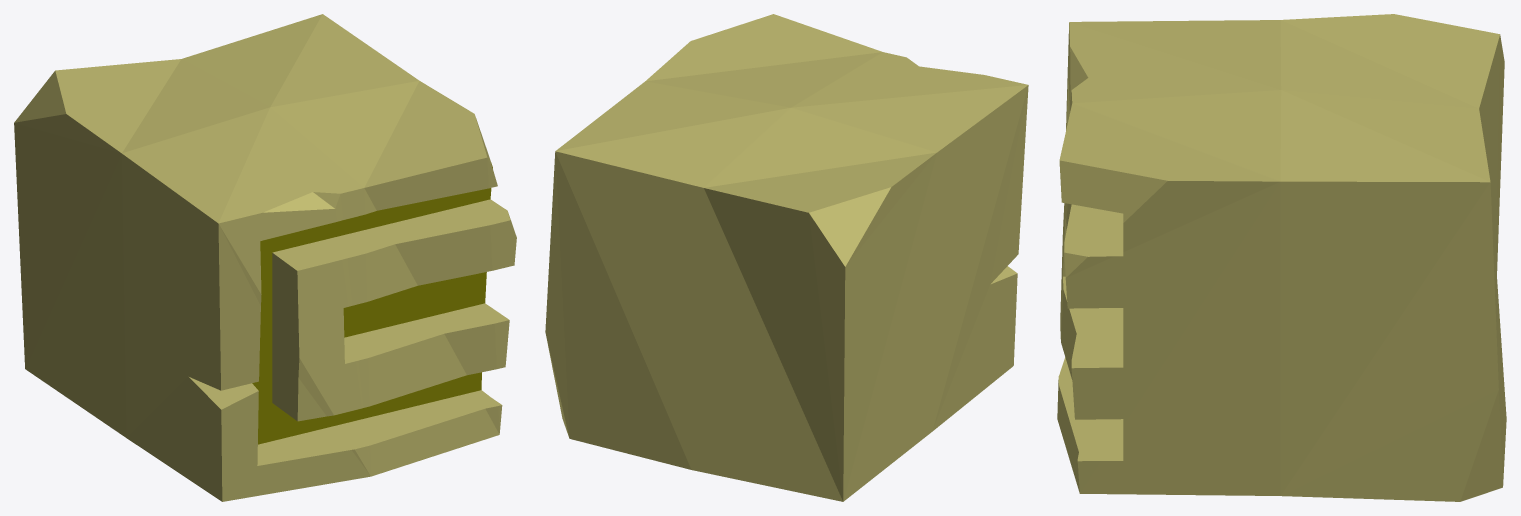
The model's file is Prop_Jungle_Temple_Pillar_Block_Markings_03.FBX.
3 renders of one model, left to right at view 1: azimuth 30°, elevation 25°; view 2: azimuth 150°, elevation 25°; view 3: azimuth 270°, elevation 25°, orthographic. The views are drawn at different scales.
Visible parts, largest first — view 1: Prop_Jungle_Temple_Pillar_Block_Markings_03; view 2: Prop_Jungle_Temple_Pillar_Block_Markings_03; view 3: Prop_Jungle_Temple_Pillar_Block_Markings_03.
Part boxes in pixels (x1=…): Prop_Jungle_Temple_Pillar_Block_Markings_03: x1=14, y1=14, x2=516, y2=501; Prop_Jungle_Temple_Pillar_Block_Markings_03: x1=545, y1=14, x2=1028, y2=501; Prop_Jungle_Temple_Pillar_Block_Markings_03: x1=1057, y1=14, x2=1506, y2=501.
Bounding box in the file's own units: 1667 × 1523 × 1886.
